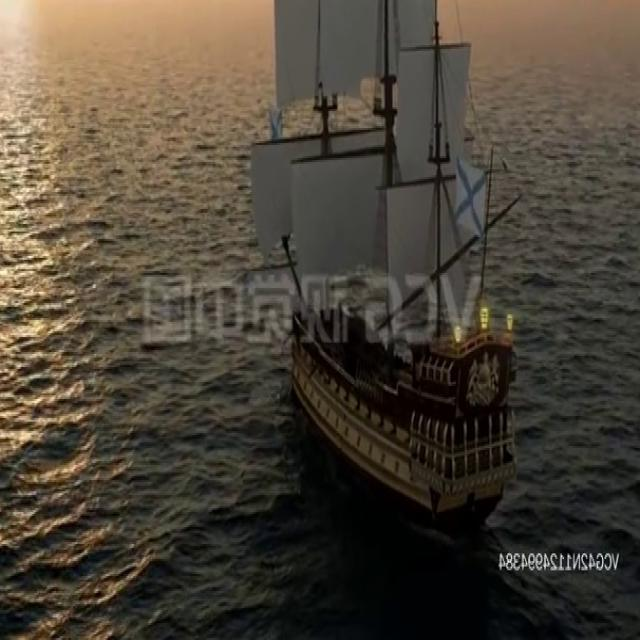sailboat: (257, 0, 529, 516)
